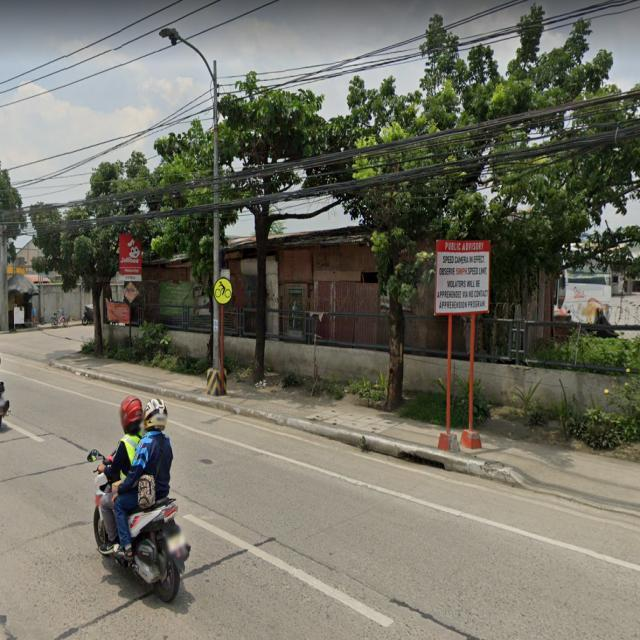bike lane: (211, 273, 238, 310)
